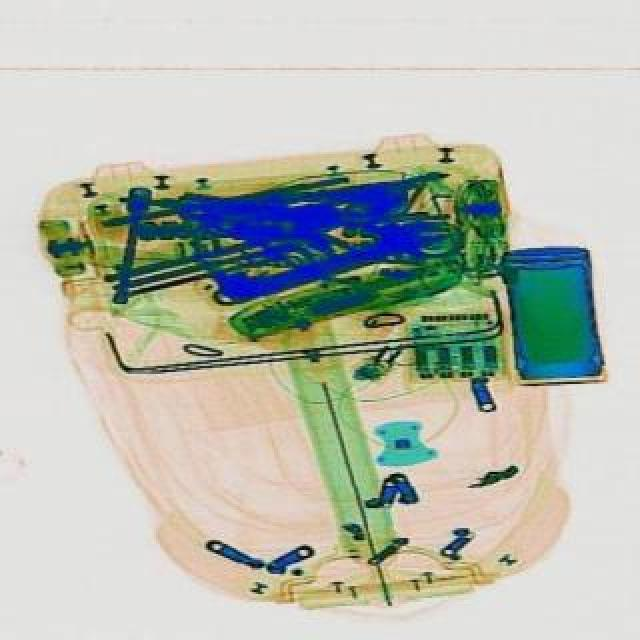scissors: (212, 212, 452, 316)
